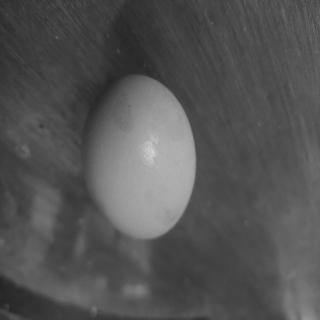Telur: (79, 71, 203, 246)
